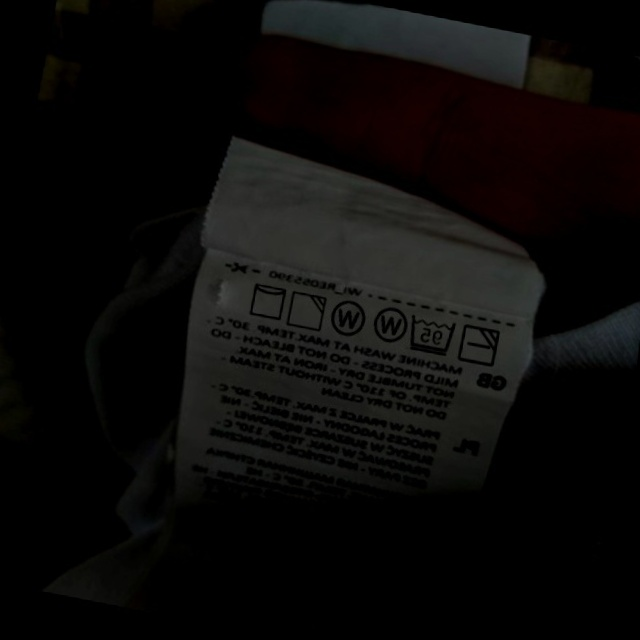95C: (404, 311, 459, 358)
dry_flat_in_shade: (456, 320, 503, 370)
line_dry: (244, 278, 290, 323)
shade_dry: (284, 288, 329, 334)
wet_clean: (326, 296, 370, 342), (368, 300, 411, 347)
